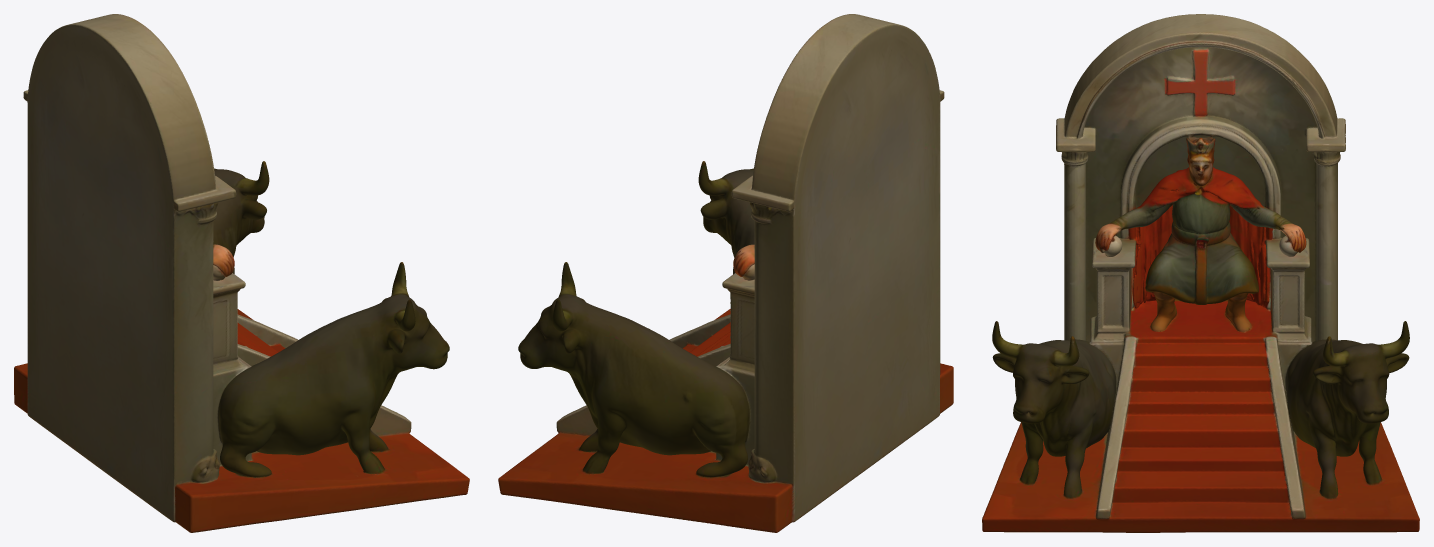
3 renders of one model, left to right at view 1: azimuth 30°, elevation 25°; view 2: azimuth 150°, elevation 25°; view 3: azimuth 270°, elevation 25°, orthographic. The views are drawn at different scales.
Parts seen in each view (by area): view 1: tripo_node_e2d44475-9a2d-4431-bbf2-1bf1aecde721; view 2: tripo_node_e2d44475-9a2d-4431-bbf2-1bf1aecde721; view 3: tripo_node_e2d44475-9a2d-4431-bbf2-1bf1aecde721.
Boxes of the visible parts, box(x1,y1,x2,y2) form: tripo_node_e2d44475-9a2d-4431-bbf2-1bf1aecde721: box(14, 14, 469, 532); tripo_node_e2d44475-9a2d-4431-bbf2-1bf1aecde721: box(498, 14, 953, 532); tripo_node_e2d44475-9a2d-4431-bbf2-1bf1aecde721: box(982, 14, 1419, 532).
Bounding box in the file's own units: 0.6127 × 1 × 0.973.
1 material, 1 textured.
